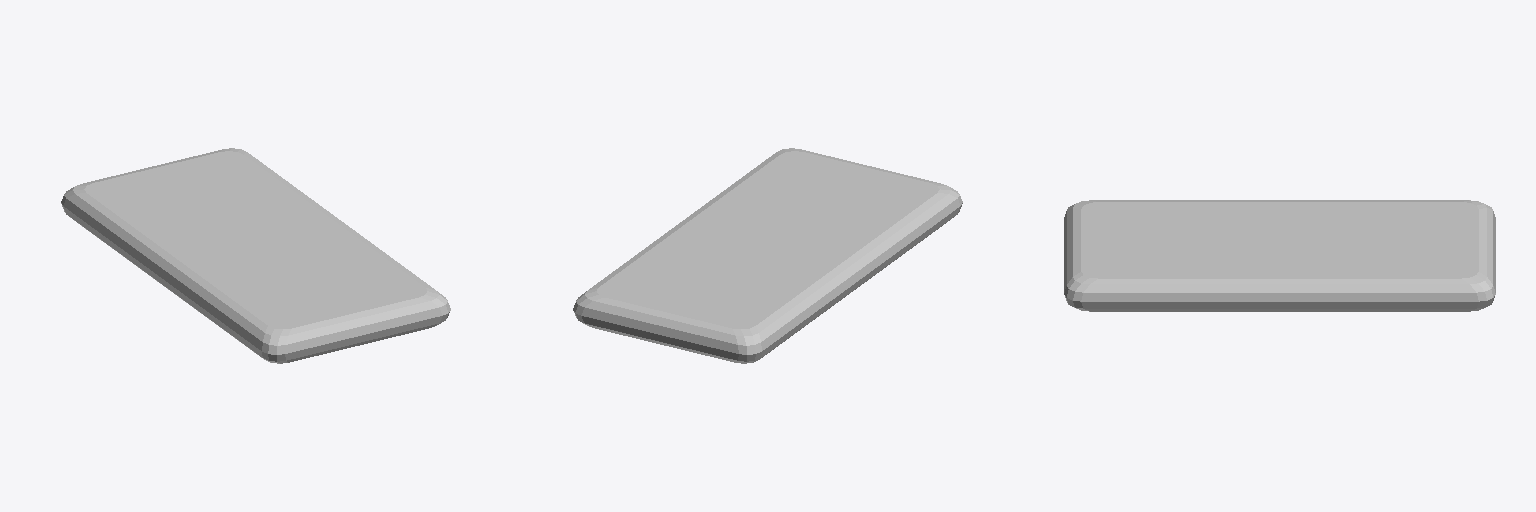
The model's file is phone.obj.
3 renders of one model, left to right at view 1: azimuth 30°, elevation 25°; view 2: azimuth 150°, elevation 25°; view 3: azimuth 270°, elevation 25°, orthographic.
Parts seen in each view (by area): view 1: Phone; view 2: Phone; view 3: Phone.
Boxes of the visible parts, x1,y1,x2,y2 form: Phone: [61, 148, 450, 363]; Phone: [573, 148, 962, 363]; Phone: [1064, 200, 1495, 311].
Bounding box in the file's own units: 2 × 0.3218 × 4.